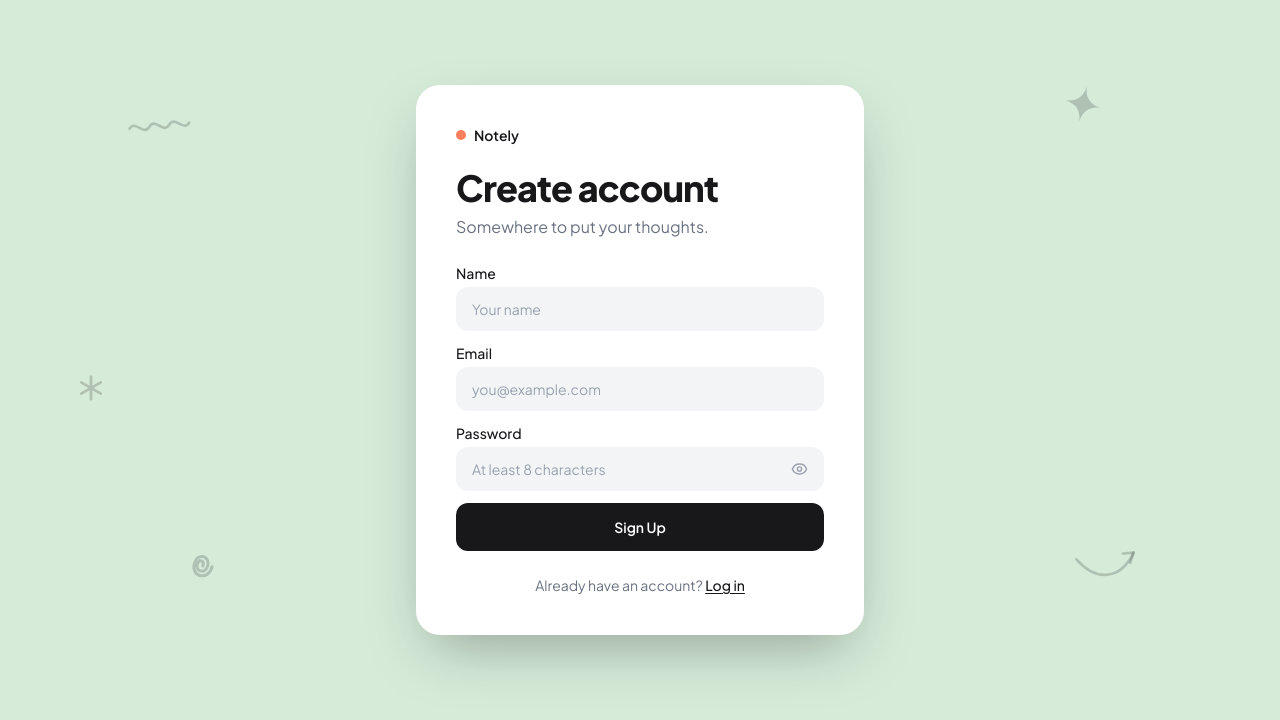
Scenario: says the server is unreachable when there is no response at all
Type "Wasiq" into the field labelled "Name" at (640, 309), box [456,287,824,331]
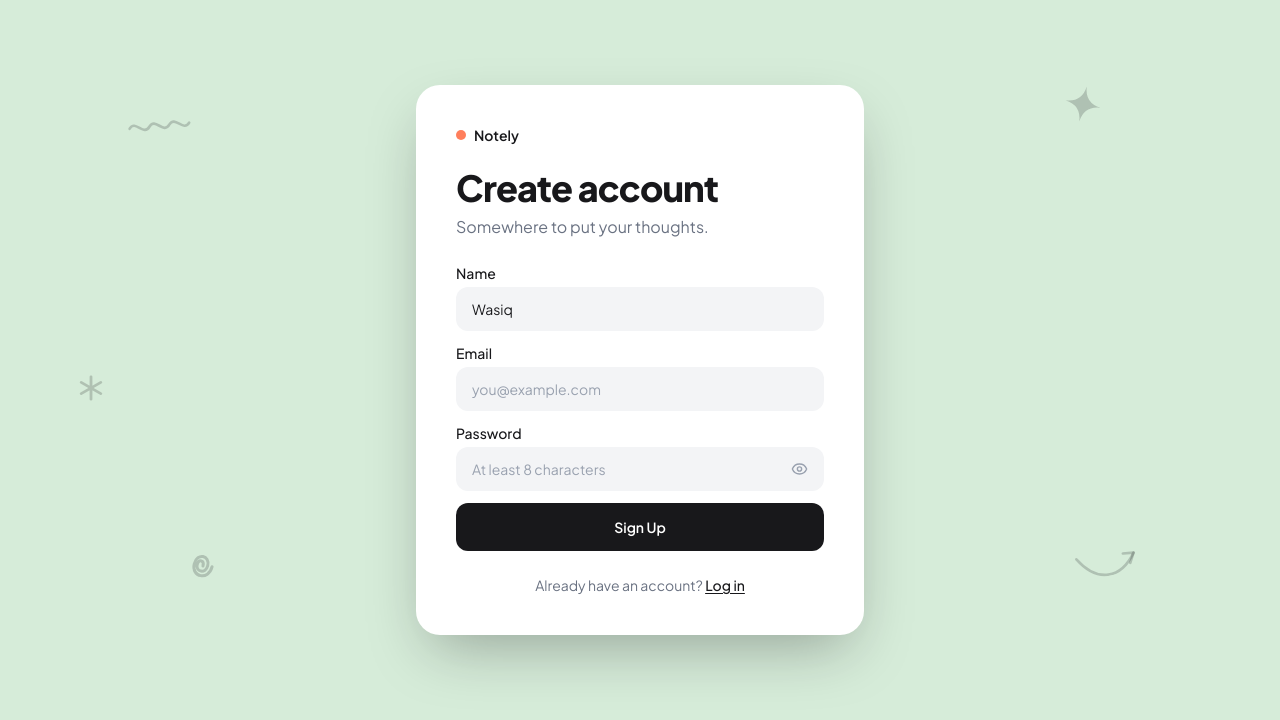
Type "a@b.com" into the field labelled "Email" at (640, 389), box [456,367,824,411]
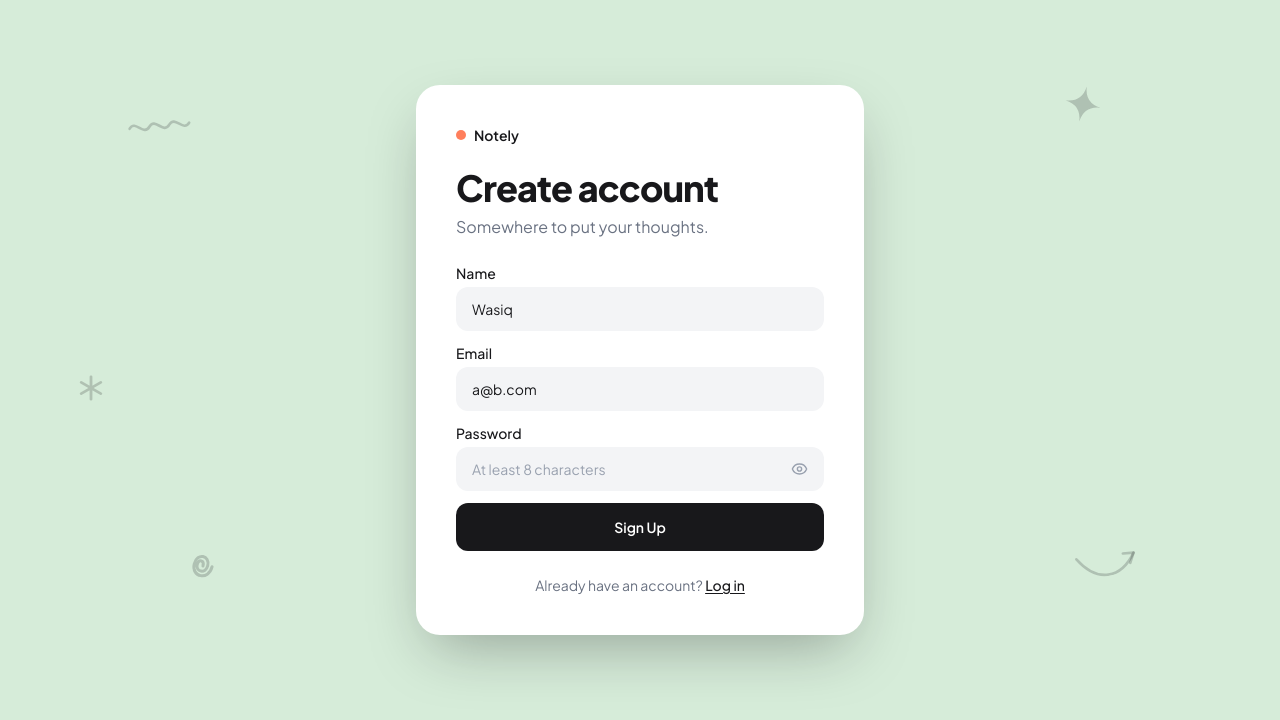
Type "password123" into the password field labelled "Password" at (640, 469), box [456,447,824,491]
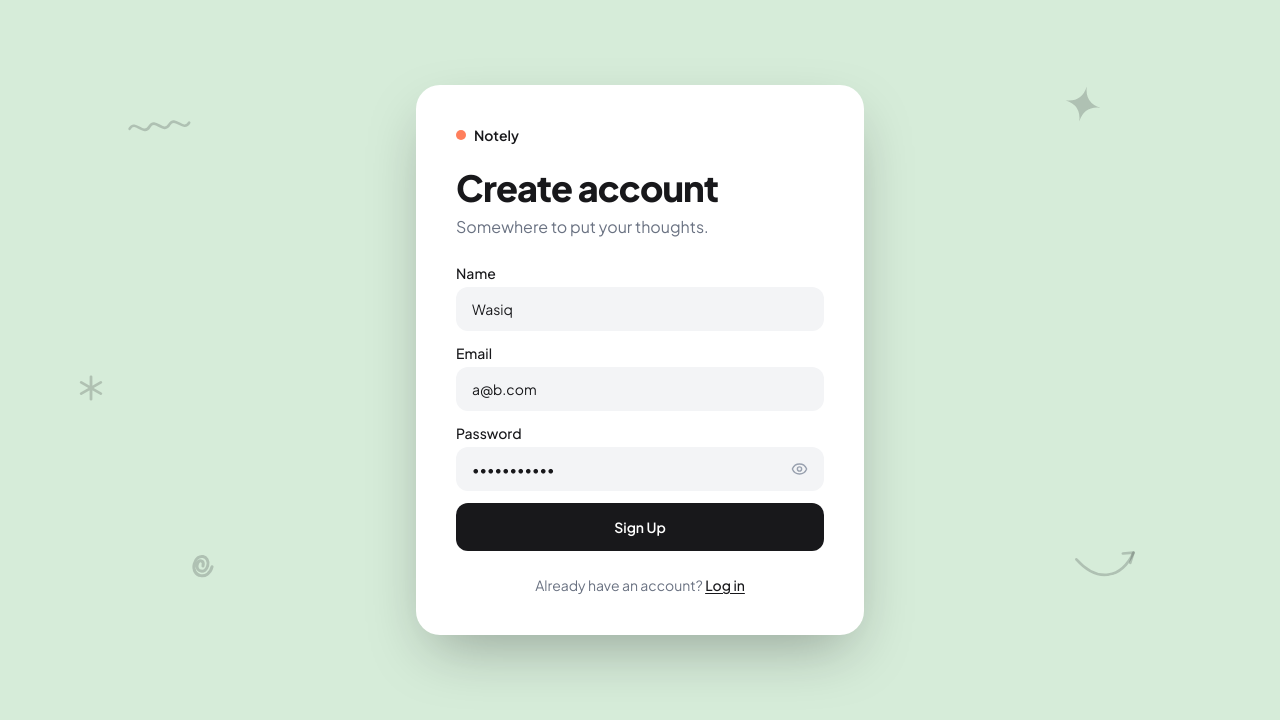
Click the button "Sign Up" at (640, 527), box [456,503,824,551]
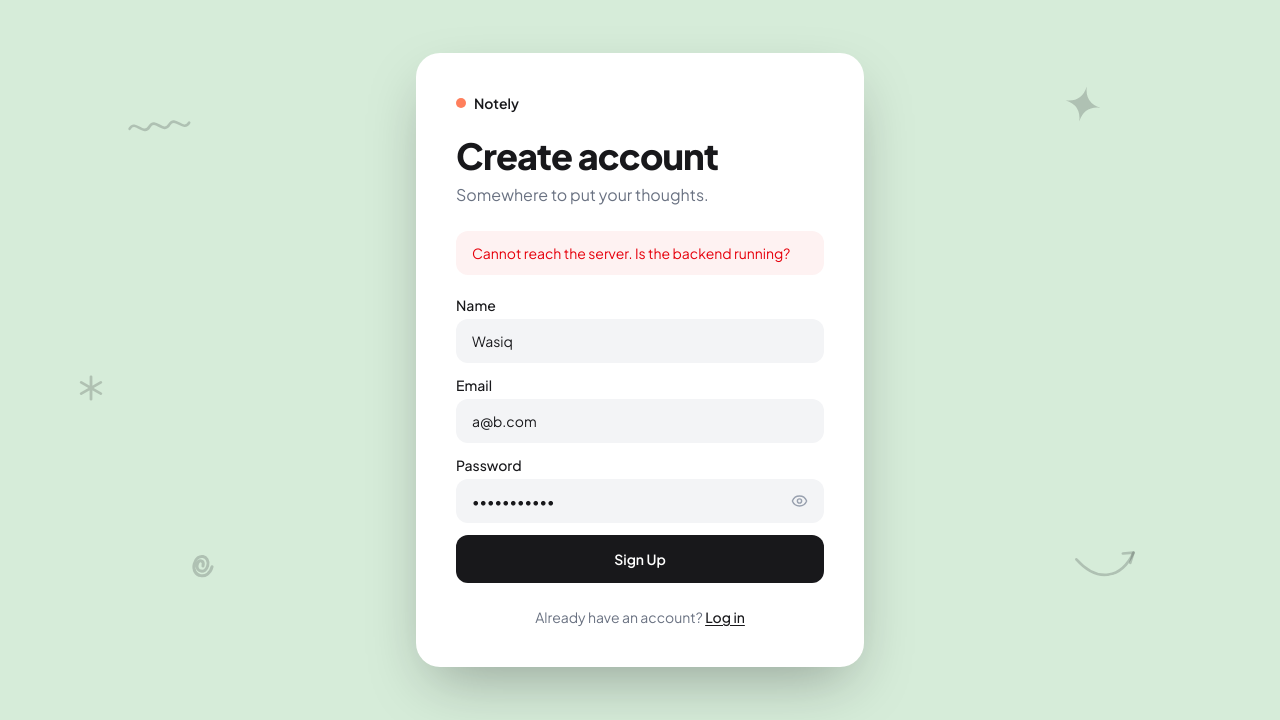
Expected: the message shows "Cannot reach the server", [472,244,790,262]
